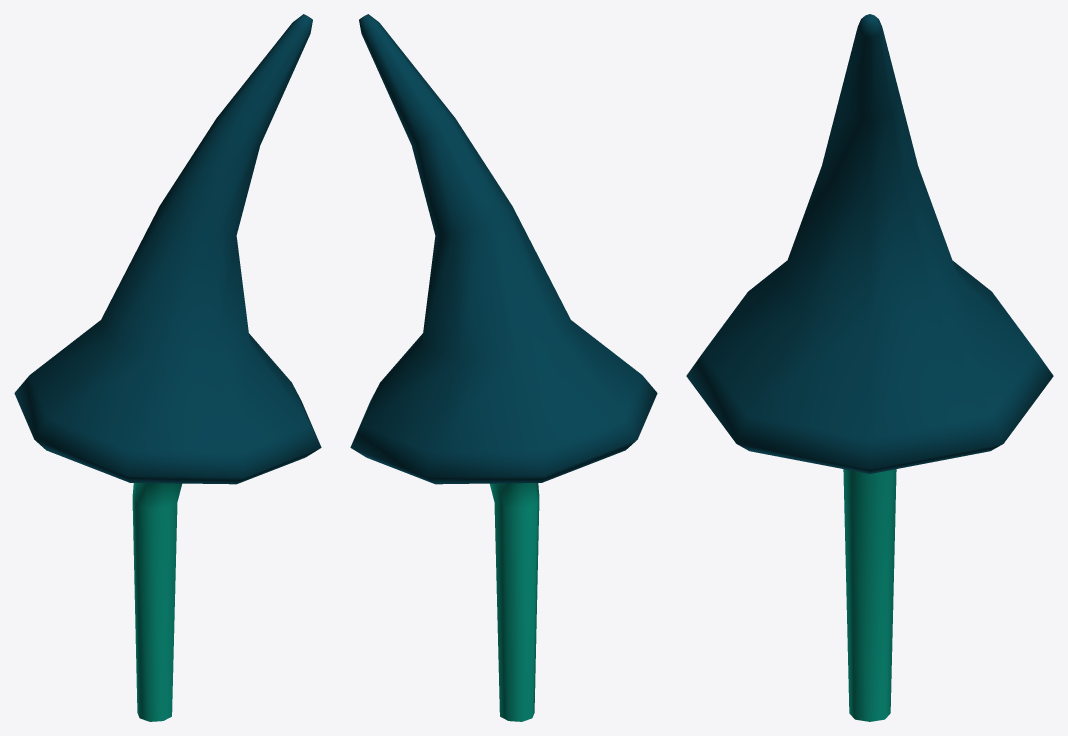
The model's file is Mashroom_12.fbx.
3 views of the same model, side by side, from view 1: azimuth 30°, elevation 25°; view 2: azimuth 150°, elevation 25°; view 3: azimuth 270°, elevation 25° (orthographic). The views are drawn at different scales.
Parts seen in each view (by area): view 1: Mashroom_12; view 2: Mashroom_12; view 3: Mashroom_12.
Part boxes in pixels (x1,y1,x2,y2): Mashroom_12: [14, 14, 321, 721]; Mashroom_12: [350, 14, 657, 721]; Mashroom_12: [686, 14, 1053, 721].
Size of the model in its own units: 27.04 by 61.69 by 26.15.
